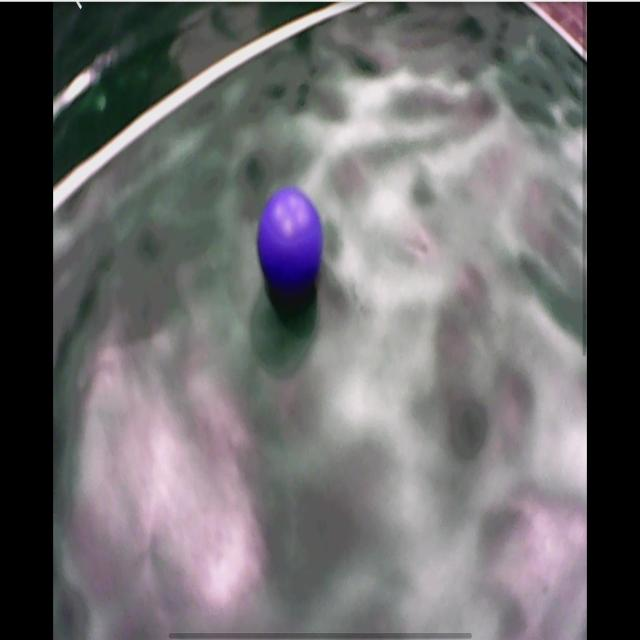ball: (258, 188, 324, 296)
